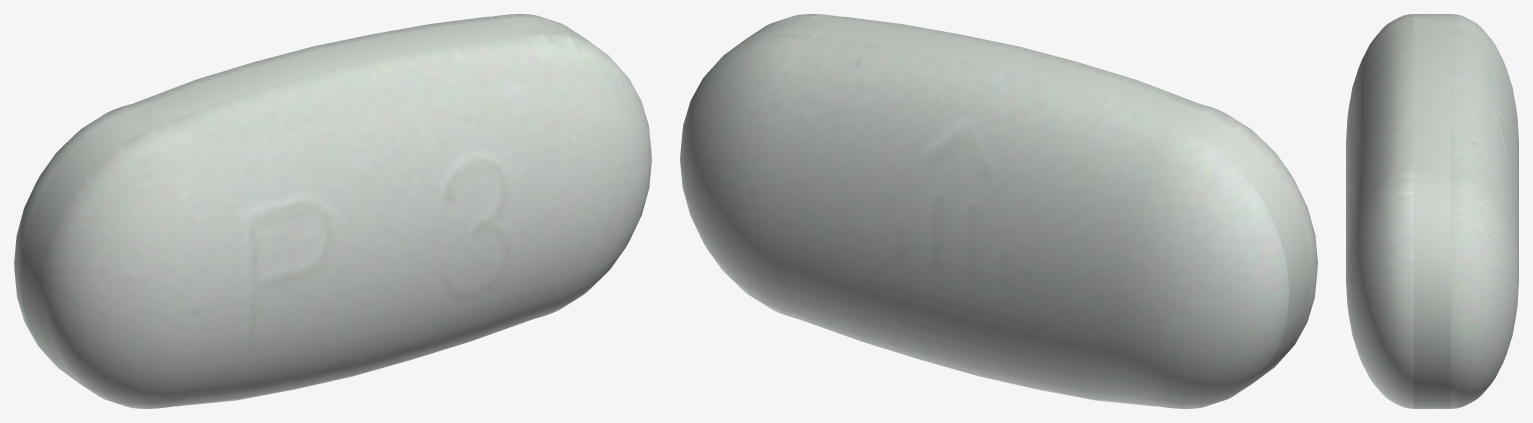
The model's file is 20140327GOPHDRGPT33065.fbx.
The picture shows the model from 3 angles, left to right: view 1: azimuth 30°, elevation 25°; view 2: azimuth 150°, elevation 25°; view 3: azimuth 270°, elevation 25°; orthographic projection. The views are drawn at different scales.
Visible parts, largest first — view 1: 球體.005; view 2: 球體.005; view 3: 球體.005.
Part boxes in pixels (x1,y1,x2,y2): 球體.005: (14,14,651,408); 球體.005: (680,14,1317,408); 球體.005: (1346,14,1518,408).
Bounding box in the file's own units: 1.41 × 0.6881 × 0.4236.
